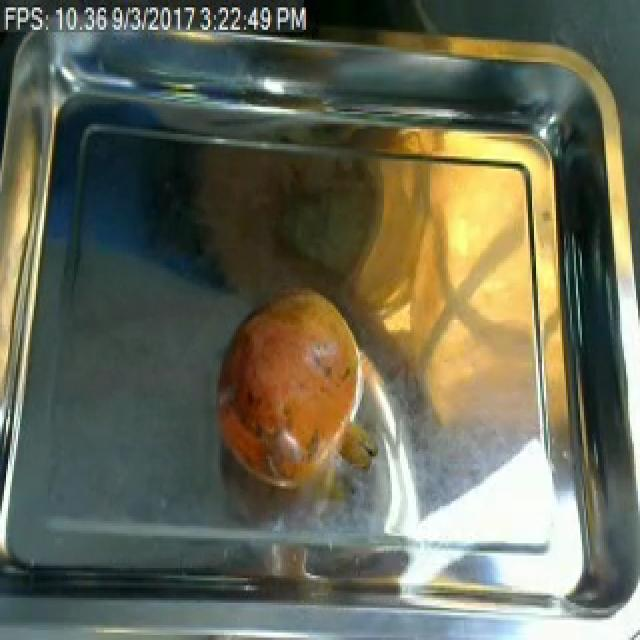fruit: (204, 275, 378, 501)
